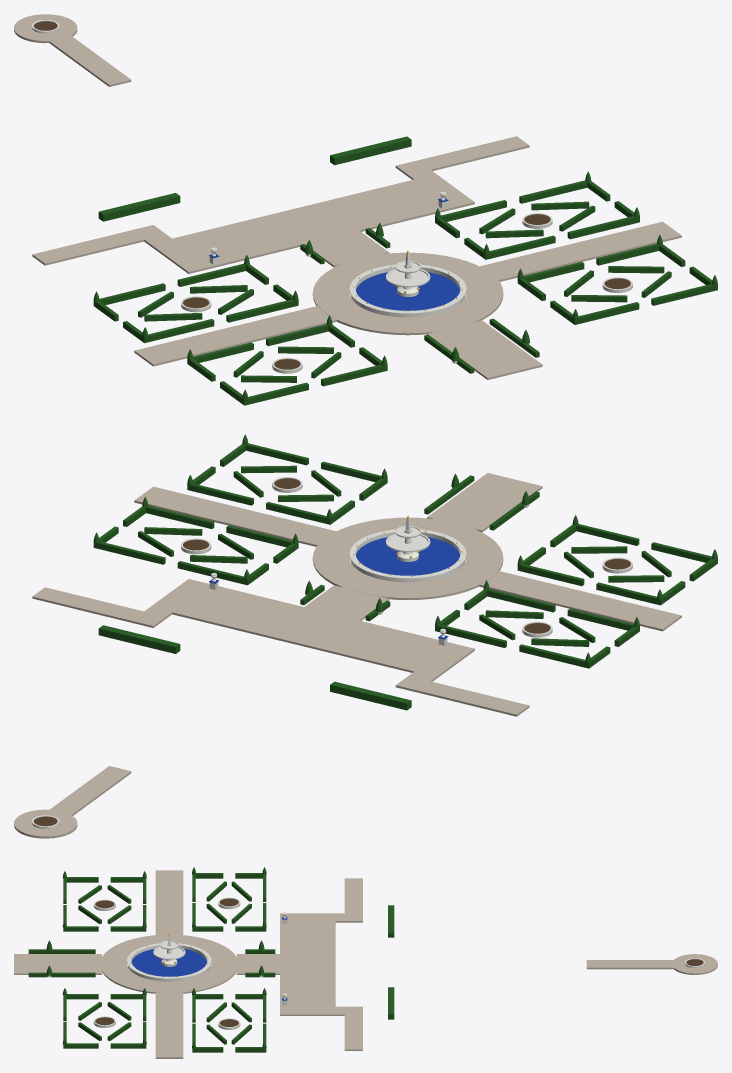
Rendered from SM_ObeliskBoys_Courtyard.fbx.
3 views of the same model, one above another, from view 1: azimuth 30°, elevation 25°; view 2: azimuth 150°, elevation 25°; view 3: azimuth 270°, elevation 25° (orthographic). The views are drawn at different scales.
Parts seen in each view (by area): view 1: SM_ObeliskBoys_Courtyard; view 2: SM_ObeliskBoys_Courtyard; view 3: SM_ObeliskBoys_Courtyard.
Boxes of the visible parts, left/top/right/bottom form: SM_ObeliskBoys_Courtyard: left=14, top=14, right=717, bottom=405; SM_ObeliskBoys_Courtyard: left=14, top=434, right=717, bottom=838; SM_ObeliskBoys_Courtyard: left=14, top=867, right=717, bottom=1058.
Size of the model in its own units: 96 by 7.76 by 153.
